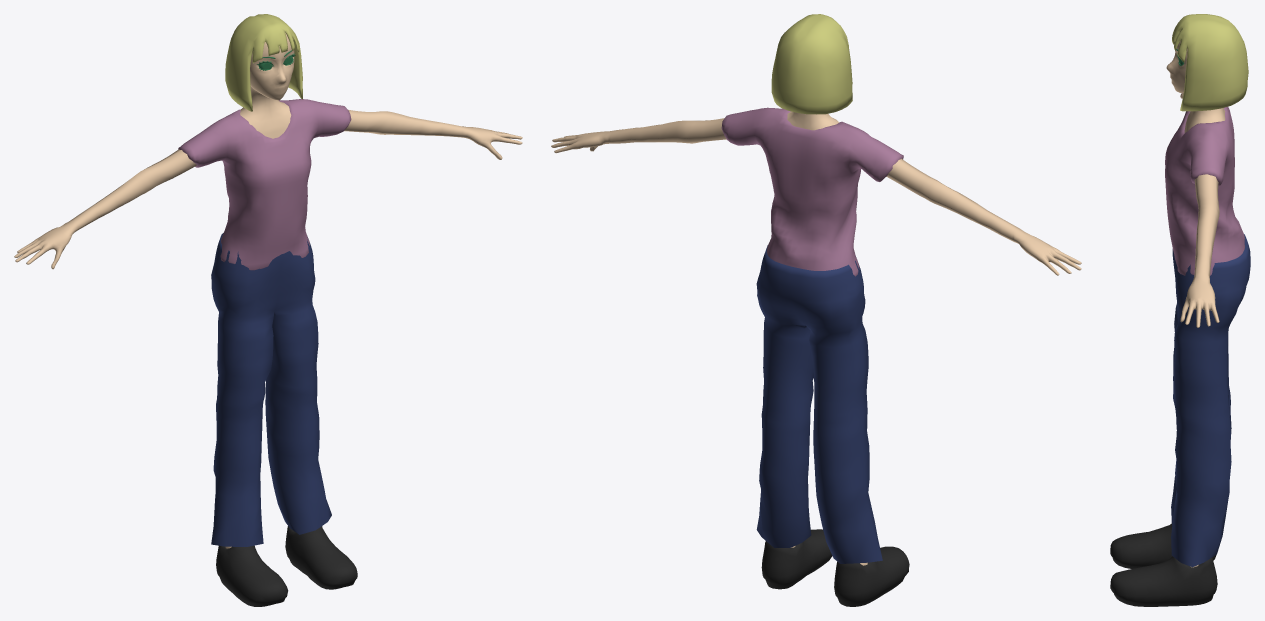
Rendered from f_character_model.fbx.
3 views of the same model, side by side, from view 1: azimuth 30°, elevation 25°; view 2: azimuth 150°, elevation 25°; view 3: azimuth 270°, elevation 25° (orthographic). The views are drawn at different scales.
Visible parts, largest first — view 1: f_pants_01, f_shirt_01, f_body_01, shoes_01, f_hair_01; view 2: f_pants_01, f_shirt_01, f_body_01, f_hair_01, shoes_01; view 3: f_pants_01, f_shirt_01, shoes_01, f_hair_01, f_body_01.
Boxes of the visible parts, x1,y1,x2,y2 form: f_pants_01: (211, 233, 331, 546); f_shirt_01: (178, 99, 351, 270); f_body_01: (14, 33, 522, 548); shoes_01: (216, 526, 357, 606); f_hair_01: (225, 14, 302, 111); f_pants_01: (756, 245, 882, 563); f_shirt_01: (721, 107, 903, 276); f_body_01: (551, 111, 1081, 565); f_hair_01: (771, 14, 852, 114); shoes_01: (761, 529, 909, 606); f_pants_01: (1171, 234, 1250, 567); f_shirt_01: (1165, 106, 1244, 275); shoes_01: (1110, 523, 1217, 606); f_hair_01: (1172, 14, 1248, 111); f_body_01: (1166, 40, 1225, 567).
Size of the model in its own units: 176 by 183 by 41.28.
